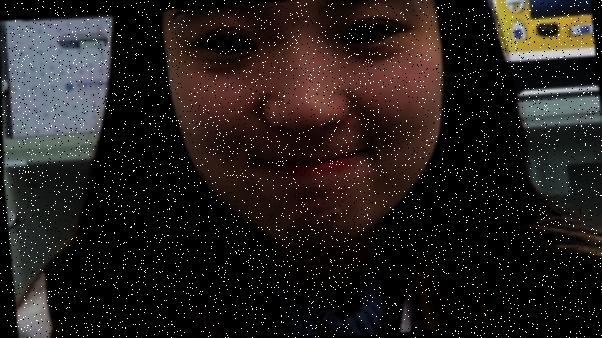eye: (355, 26, 374, 42), (225, 36, 243, 51)
iris: (341, 23, 399, 46), (202, 35, 255, 56)
